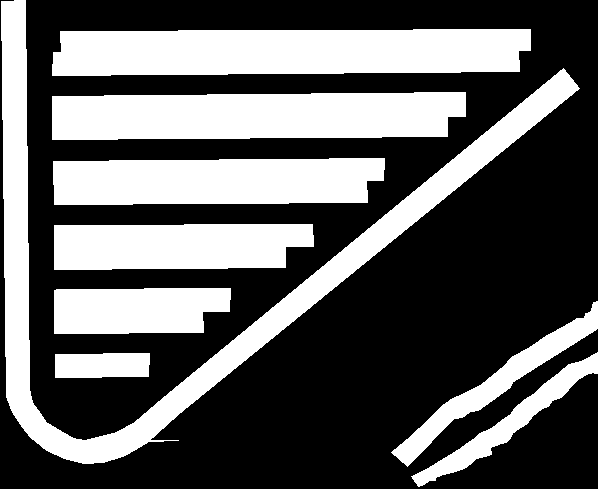parkingspot: (1, 0, 579, 463), (391, 301, 598, 466), (411, 352, 598, 486), (52, 48, 519, 75), (60, 29, 530, 54), (52, 92, 465, 119), (52, 113, 447, 139), (53, 158, 384, 184), (54, 178, 367, 204), (54, 224, 313, 248), (54, 244, 285, 269), (54, 288, 230, 312), (54, 309, 203, 333), (55, 353, 149, 377)
